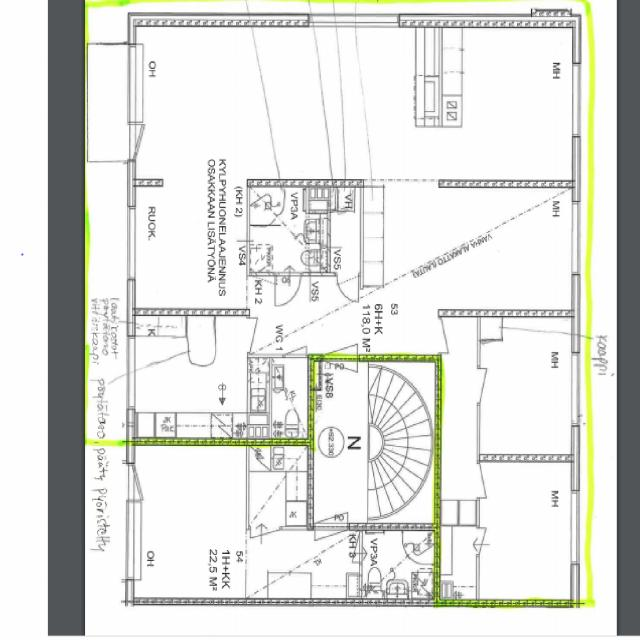door: (322, 354, 357, 402), (322, 313, 357, 361), (126, 124, 166, 162), (476, 463, 508, 498), (248, 317, 279, 352), (438, 318, 469, 352), (477, 368, 507, 401), (275, 272, 301, 306), (284, 328, 306, 357), (337, 272, 358, 302), (477, 528, 501, 553)
